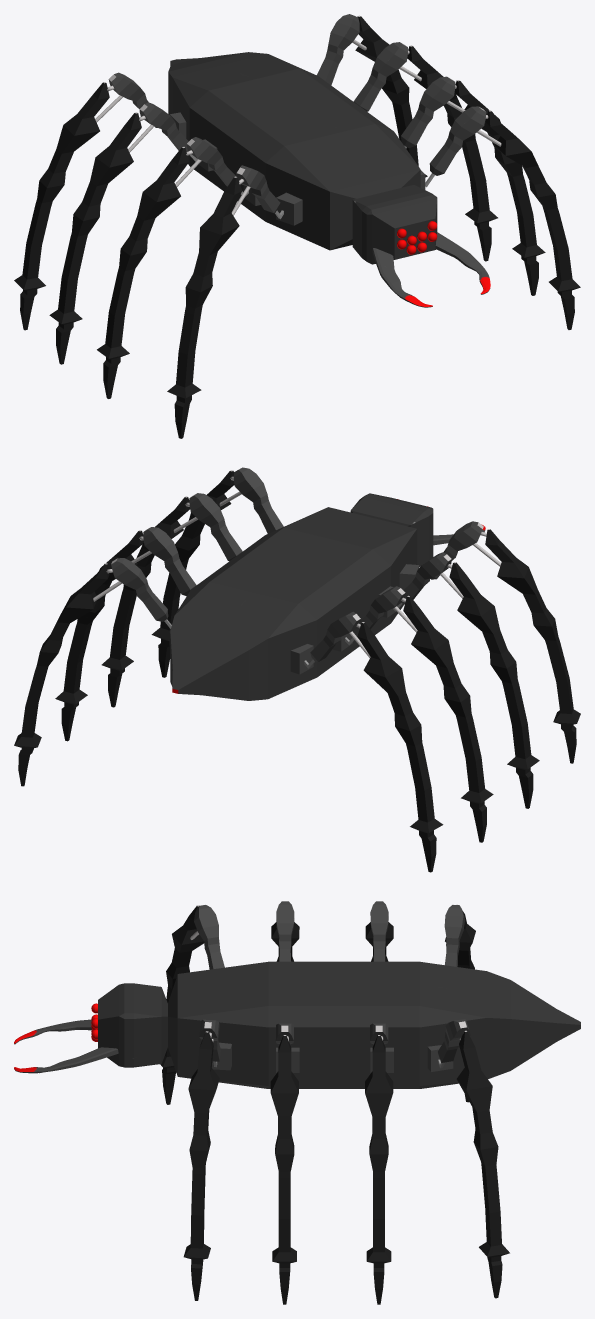
Rendered from mechspider_msh.fbx.
3 renders of one model, top to bottom at view 1: azimuth 30°, elevation 25°; view 2: azimuth 150°, elevation 25°; view 3: azimuth 270°, elevation 25°, orthographic. The views are drawn at different scales.
Parts seen in each view (by area): view 1: torso, leg 1.004, leg 1.006, leg 1.005, leg 1.007, leg 1, leg 1.001, leg 1.002, leg 1.003, mandible1, mandible2, attacher7; view 2: torso, leg 1.007, leg 1.005, leg 1.006, leg 1.004, leg 1.003, leg 1.002, leg 1.001, leg 1, attacher1; view 3: torso, leg 1.003, leg 1, leg 1.001, leg 1.002, leg 1.004, leg 1.007, leg 1.005, leg 1.006, mandible1, mandible2.
Boxes of the visible parts, bbox=[...] form: torso: bbox=[168, 52, 437, 264]; leg 1.004: bbox=[167, 165, 283, 438]; leg 1.006: bbox=[49, 102, 197, 364]; leg 1.005: bbox=[97, 137, 248, 398]; leg 1.007: bbox=[14, 72, 157, 330]; leg 1: bbox=[425, 106, 580, 329]; leg 1.001: bbox=[401, 76, 545, 295]; leg 1.002: bbox=[353, 42, 497, 261]; leg 1.003: bbox=[317, 14, 427, 177]; mandible1: bbox=[435, 232, 490, 294]; mandible2: bbox=[372, 248, 432, 307]; attacher7: bbox=[276, 192, 302, 225]; torso: bbox=[170, 493, 433, 700]; leg 1.007: bbox=[304, 611, 443, 872]; leg 1.005: bbox=[393, 552, 539, 808]; leg 1.006: bbox=[345, 586, 493, 842]; leg 1.004: bbox=[430, 521, 580, 763]; leg 1.003: bbox=[14, 558, 171, 786]; leg 1.002: bbox=[55, 527, 196, 741]; leg 1.001: bbox=[101, 493, 242, 707]; leg 1: bbox=[151, 467, 283, 677]; attacher1: bbox=[290, 644, 313, 674]; torso: bbox=[98, 961, 580, 1088]; leg 1.003: bbox=[438, 1019, 509, 1298]; leg 1: bbox=[183, 1019, 220, 1300]; leg 1.001: bbox=[270, 1023, 298, 1304]; leg 1.002: bbox=[365, 1023, 393, 1304]; leg 1.004: bbox=[160, 905, 224, 1104]; leg 1.007: bbox=[444, 904, 475, 1102]; leg 1.005: bbox=[271, 901, 299, 961]; leg 1.006: bbox=[365, 901, 393, 961]; mandible1: bbox=[14, 1047, 118, 1073]; mandible2: bbox=[14, 1019, 91, 1044].
Size of the model in its own units: 495 by 257 by 557.
